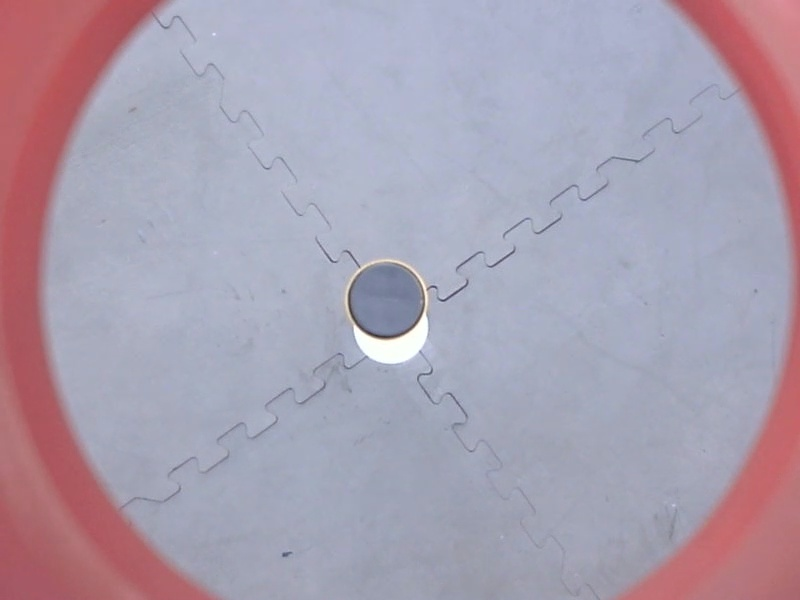tip: (339, 255, 434, 346)
